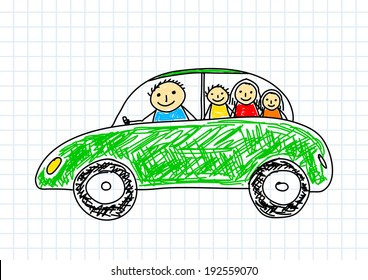car: (34, 66, 334, 221)
